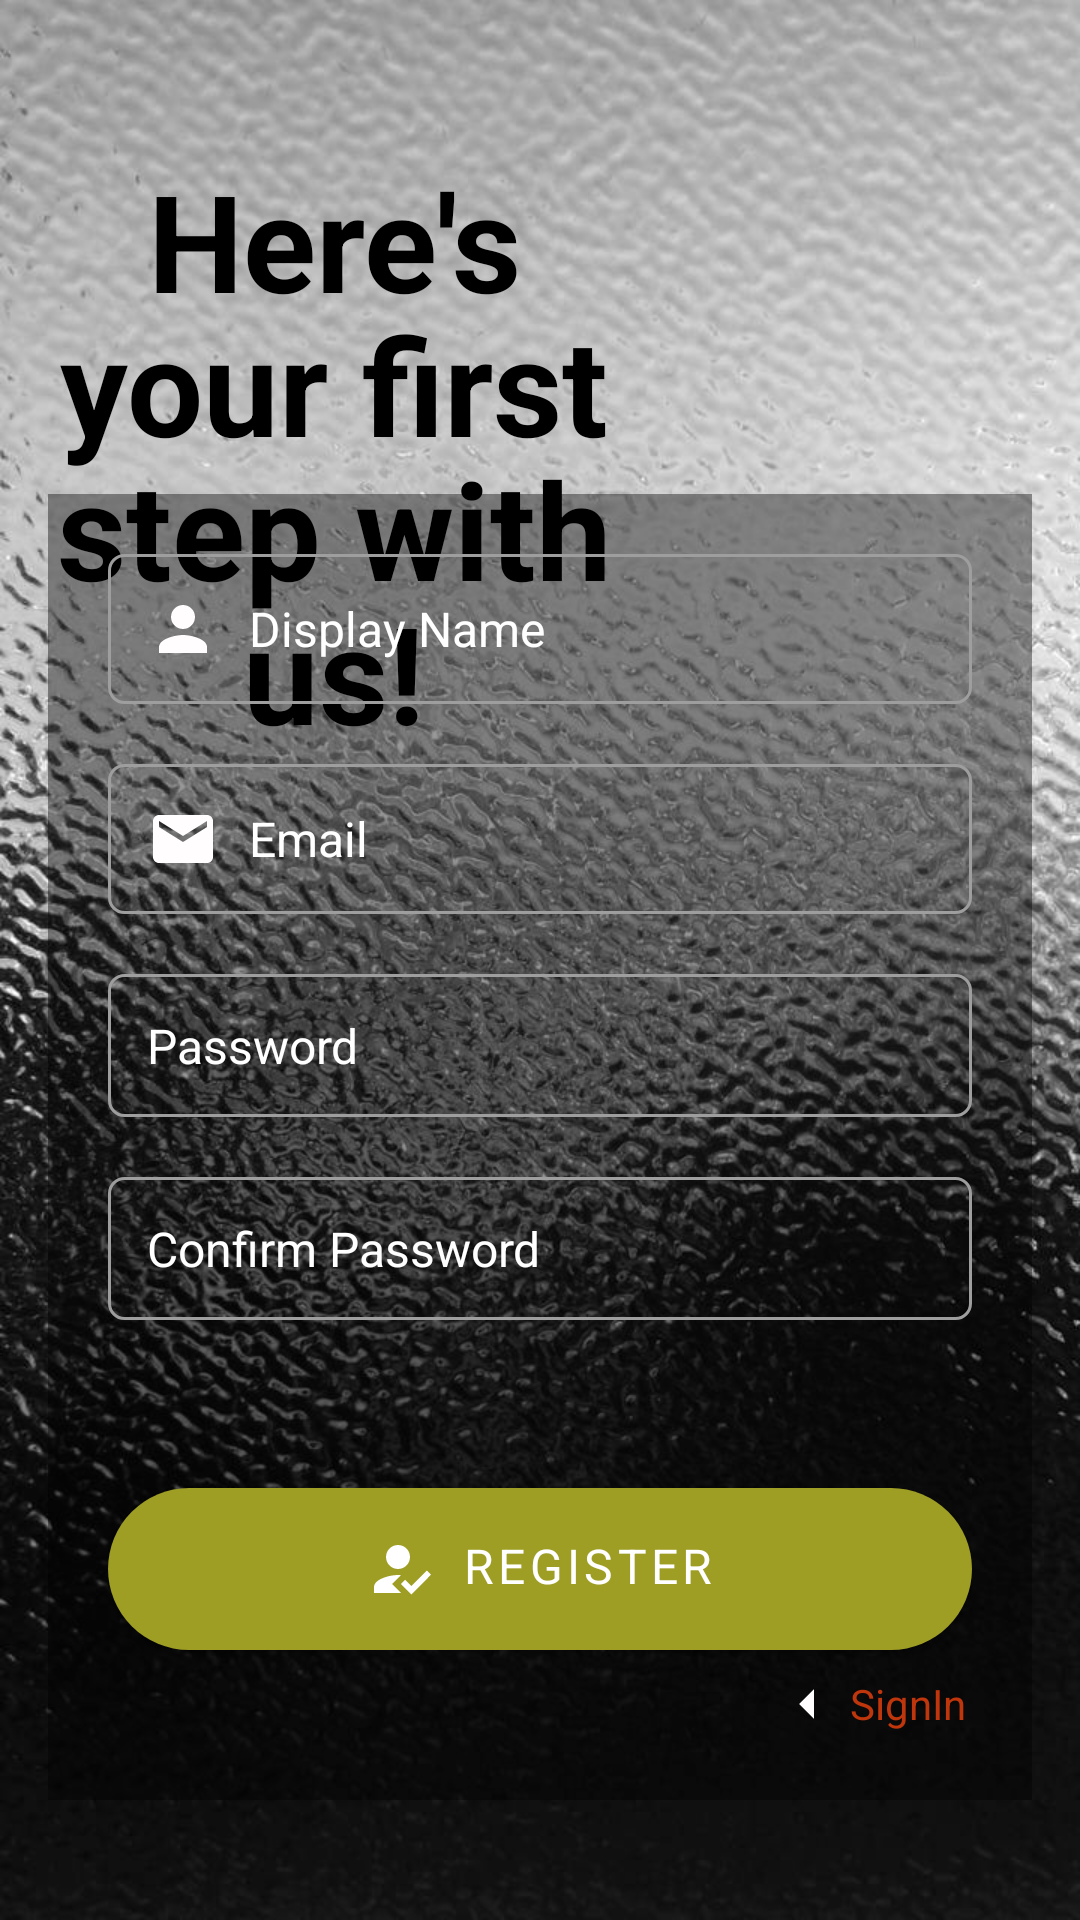

Screen size 1080px×1920px. Icon name, then its center in pixels as [x,y]:
arrow left: [806,1704]
